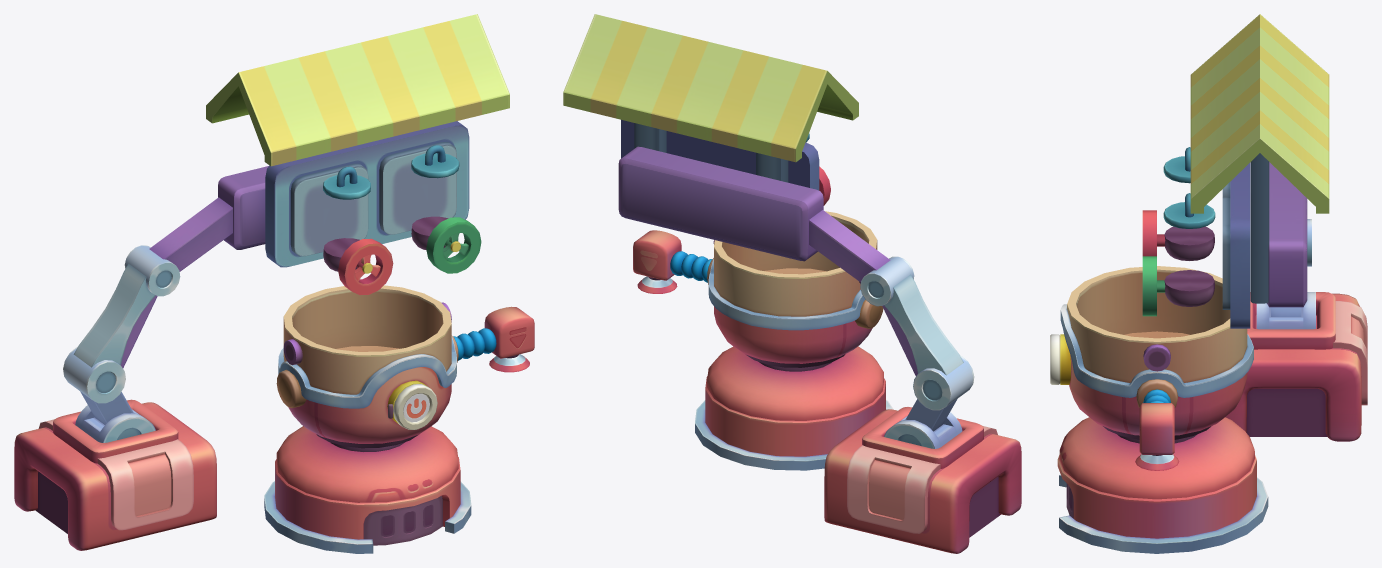
The model's file is 新雪糕工厂-雪糕原料混合机01.FBX.
3 renders of one model, left to right at view 1: azimuth 30°, elevation 25°; view 2: azimuth 150°, elevation 25°; view 3: azimuth 270°, elevation 25°, orthographic. The views are drawn at different scales.
Parts seen in each view (by area): view 1: 新雪糕工厂-雪糕原料混合机01; view 2: 新雪糕工厂-雪糕原料混合机01; view 3: 新雪糕工厂-雪糕原料混合机01.
Boxes of the visible parts, left/top/right/bottom form: 新雪糕工厂-雪糕原料混合机01: left=14, top=14, right=534, bottom=553; 新雪糕工厂-雪糕原料混合机01: left=563, top=14, right=1021, bottom=553; 新雪糕工厂-雪糕原料混合机01: left=1050, top=14, right=1367, bottom=553.
Bounding box in the file's own units: 218 × 210 × 134.
2 materials, 2 textured.
